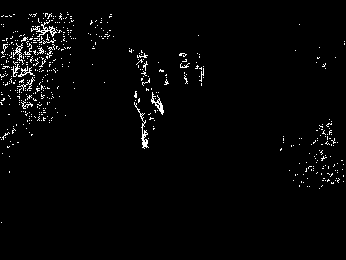person: (133, 74, 164, 151)
